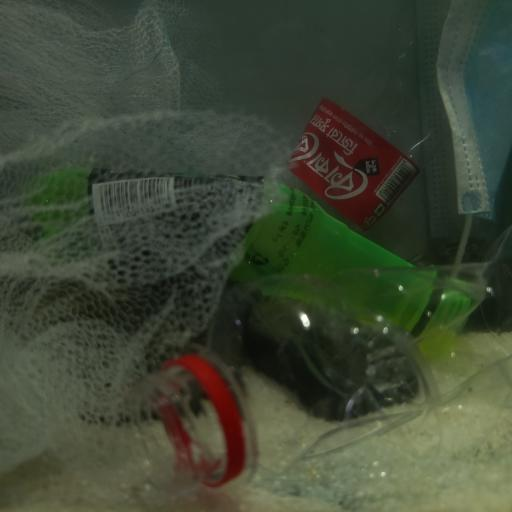mask: (428, 1, 512, 242)
net: (0, 2, 296, 479)
plastic_bottle: (0, 164, 473, 359), (142, 256, 512, 493), (284, 10, 448, 214)
